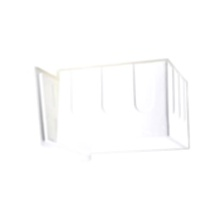foam_box: (21, 52, 196, 168)
